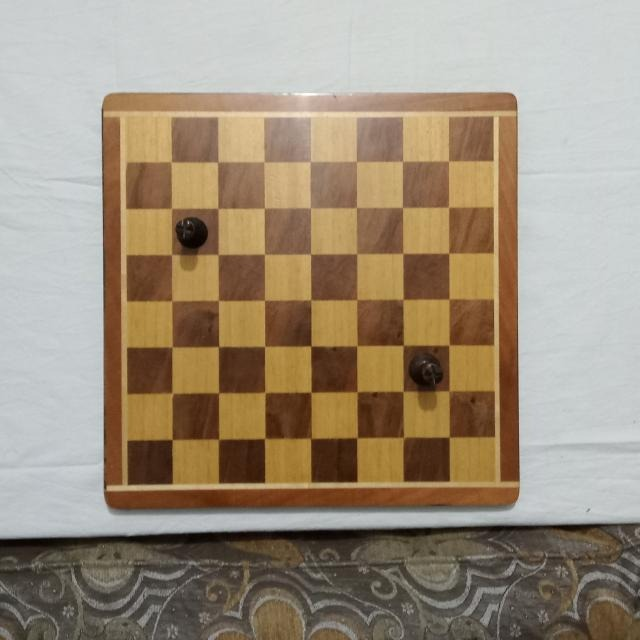black-rook: (407, 351, 444, 391), (173, 214, 208, 249)
